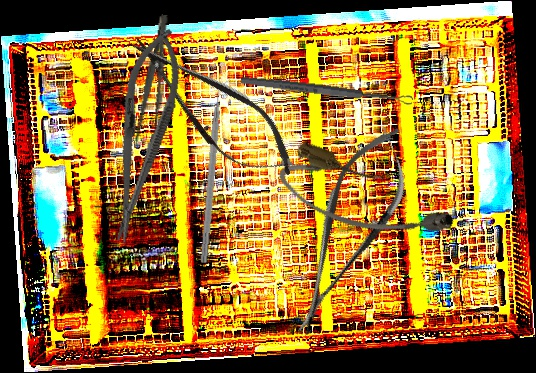Cannula: (271, 136, 462, 264)
Chopper: (199, 74, 235, 266)
Dressing Forceps: (133, 13, 176, 154)
Micro Scissor: (268, 113, 429, 347), (112, 16, 311, 198)
Needle Holder: (93, 22, 192, 249)
Surgical Spoon: (239, 74, 414, 107)
